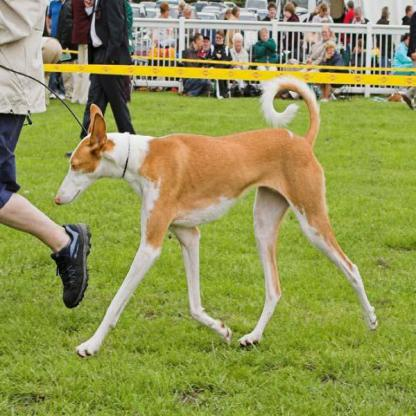dog: (59, 74, 390, 362)
